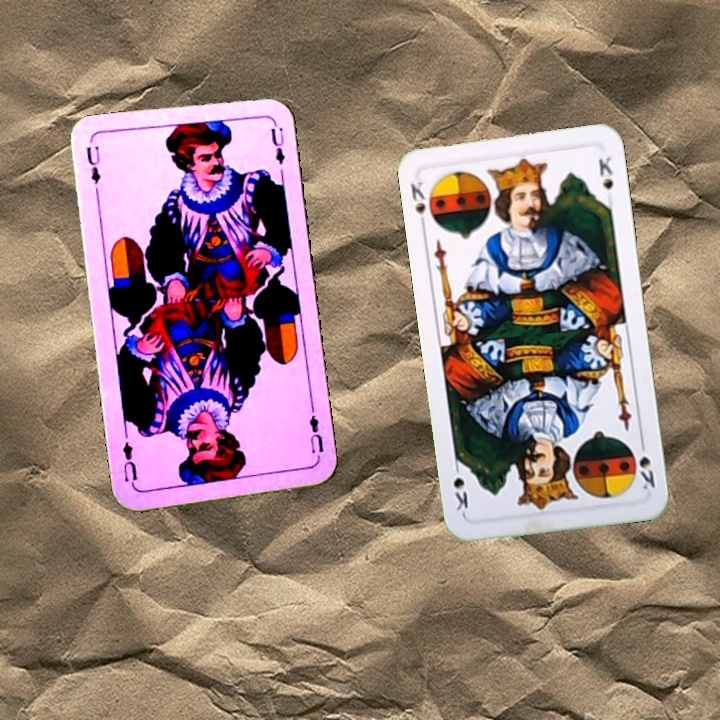EU: (305, 404, 326, 456), (82, 141, 103, 187)
SK: (635, 435, 658, 492), (406, 177, 429, 231)
